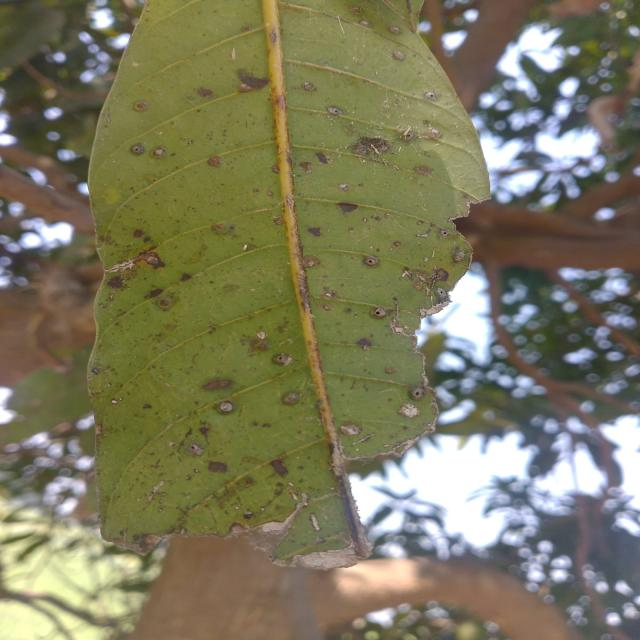Anthracnose: (237, 68, 273, 93), (194, 381, 243, 394), (325, 103, 347, 120), (340, 197, 359, 216), (132, 102, 161, 111), (364, 256, 384, 268), (308, 226, 329, 236), (304, 81, 317, 94)
Bacterial Cancer: (408, 267, 452, 314), (354, 135, 396, 162)
